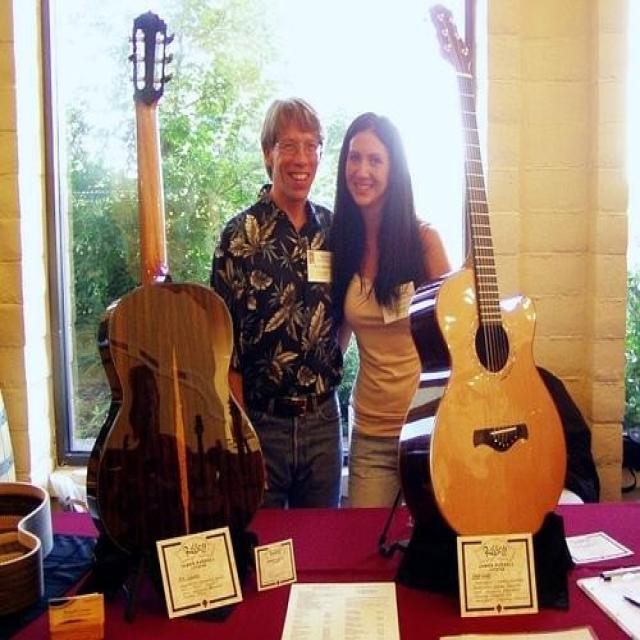guitar: (87, 12, 266, 557), (396, 2, 570, 548)
